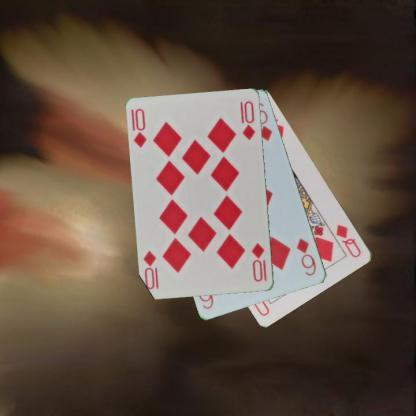10d: (249, 240, 268, 283), (131, 106, 149, 150)
6d: (294, 235, 318, 278)
Qd: (333, 222, 363, 260)
